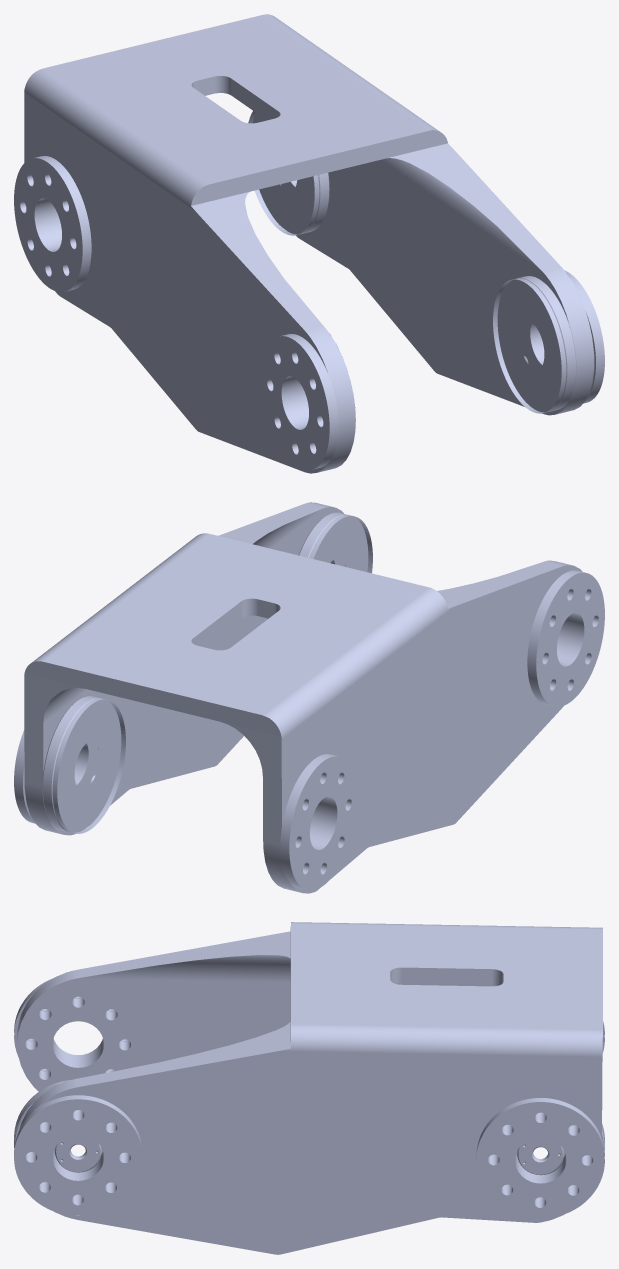
3 views of the same model, one above another, from view 1: azimuth 30°, elevation 25°; view 2: azimuth 150°, elevation 25°; view 3: azimuth 270°, elevation 25° (orthographic). The views are drawn at different scales.
Parts seen in each view (by area): view 1: NONE_DC_Shell, Boss_Extrude1_DC_Shell; view 2: NONE_DC_Shell, Boss_Extrude1_DC_Shell; view 3: NONE_DC_Shell, Boss_Extrude1_DC_Shell.
Boxes of the visible parts, x1,y1,x2,y2 form: NONE_DC_Shell: (24, 14, 594, 473); Boss_Extrude1_DC_Shell: (14, 156, 604, 470); NONE_DC_Shell: (24, 502, 582, 893); Boss_Extrude1_DC_Shell: (14, 570, 604, 890); NONE_DC_Shell: (14, 922, 604, 1254); Boss_Extrude1_DC_Shell: (14, 978, 604, 1218).
Bounding box in the file's own units: 50.9 × 41.88 × 101.
